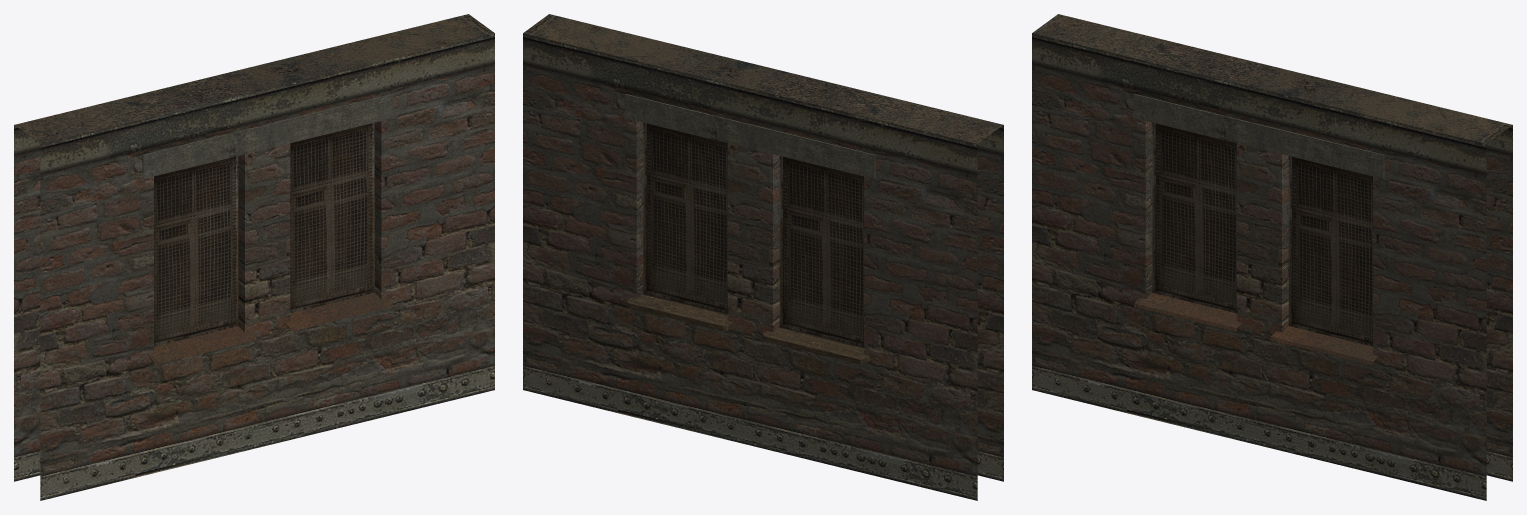
The model's file is windows_hr_1.obj.
3 renders of one model, left to right at view 1: azimuth 30°, elevation 25°; view 2: azimuth 150°, elevation 25°; view 3: azimuth 330°, elevation 25°, orthographic.
Parts seen in each view (by area): view 1: windows_hr_1; view 2: windows_hr_1; view 3: windows_hr_1.
Part boxes in pixels (box(x1,y1,x2,y2)): windows_hr_1: box(14, 14, 494, 500); windows_hr_1: box(523, 14, 1003, 500); windows_hr_1: box(1032, 14, 1512, 500).
Bounding box in the file's own units: 4 × 3 × 0.595.
